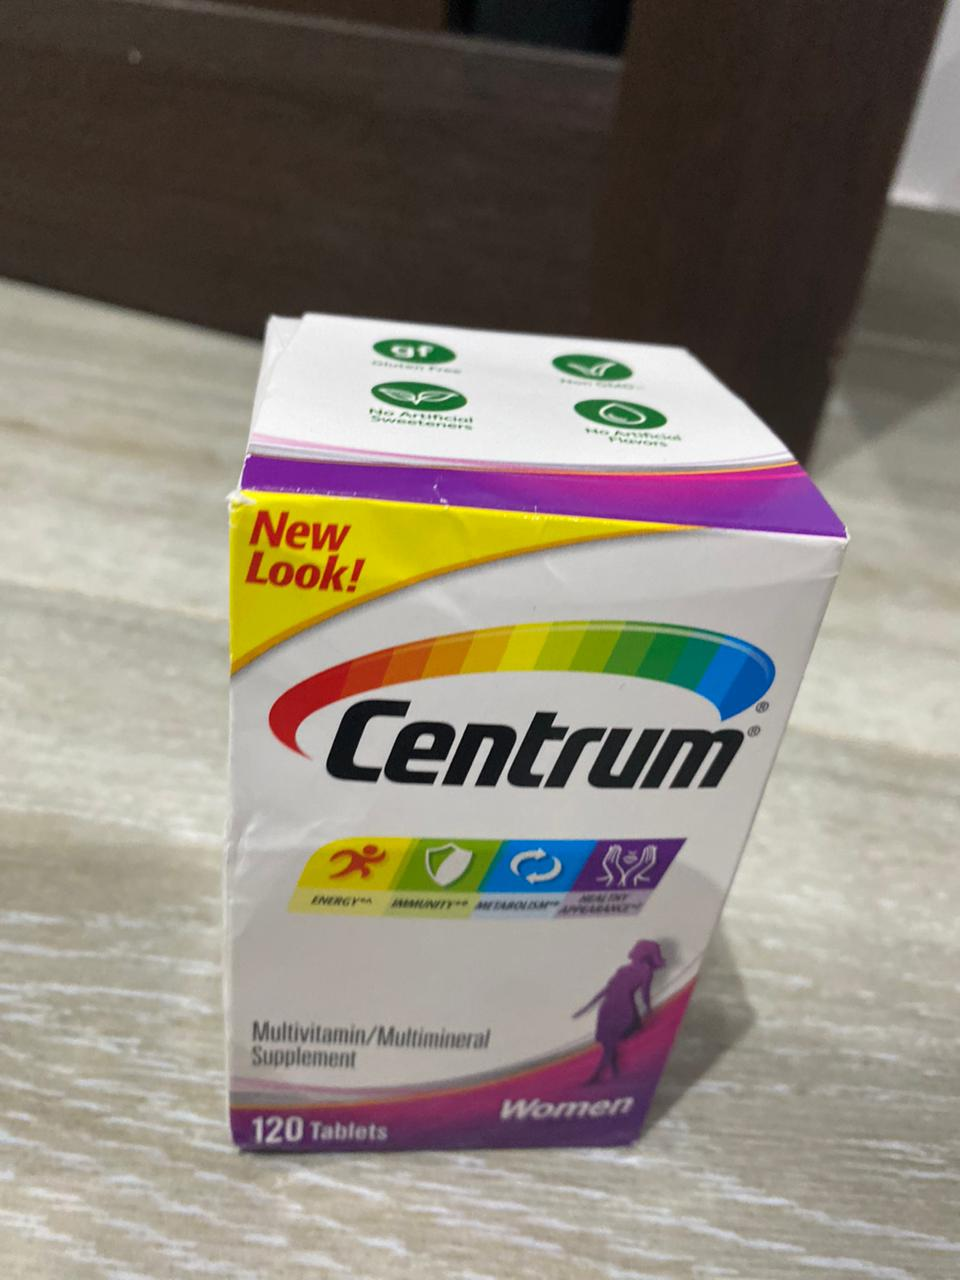Centrum: (214, 300, 857, 1156)
